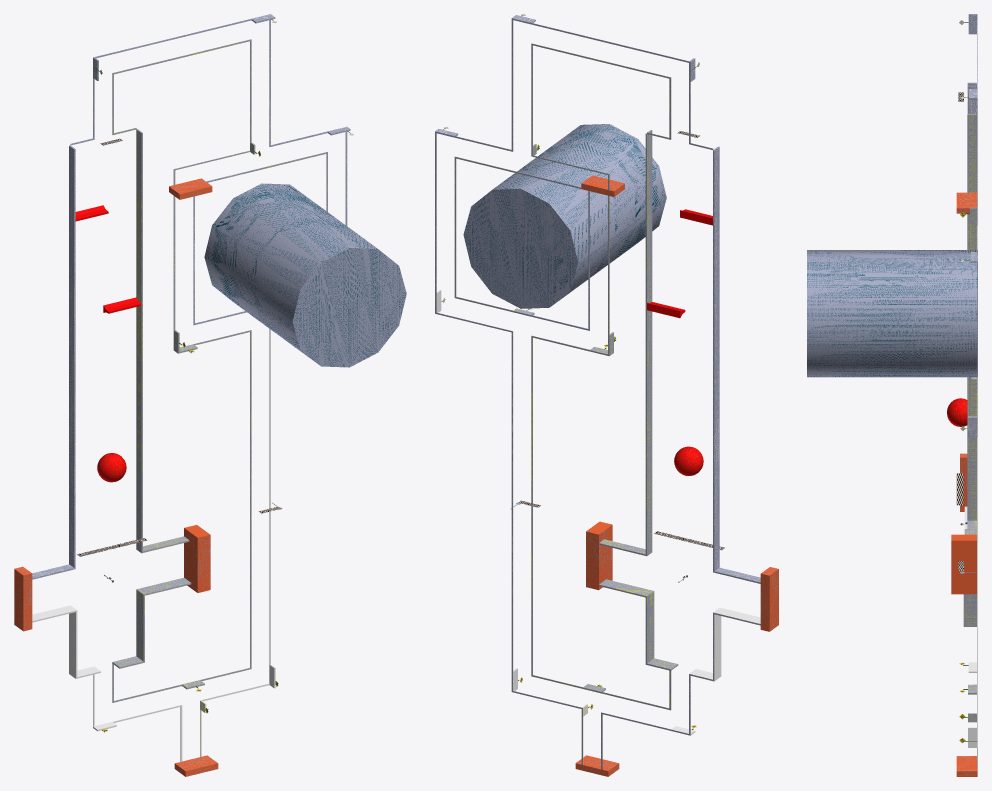
Rendered from map.obj.
3 views of the same model, side by side, from view 1: azimuth 30°, elevation 25°; view 2: azimuth 150°, elevation 25°; view 3: azimuth 270°, elevation 25° (orthographic). The views are drawn at different scales.
Visible parts, largest first — view 1: Mesh54 Model, Mesh55 Model, Mesh56 Model, Mesh57 Model, Mesh5 ball1 Model; view 2: Mesh54 Model, Mesh56 Model, Mesh55 Model, Mesh57 Model, Mesh5 ball1 Model, Mesh2 Group2 Model, Mesh1 Group1 Model; view 3: Mesh54 Model, Mesh55 Model, Mesh56 Model, Mesh5 ball1 Model, Mesh2 Group2 Model, Mesh1 Group1 Model.
Part boxes in pixels (x1,y1,x2,y2): Mesh54 Model: [204, 183, 406, 367]; Mesh55 Model: [112, 39, 255, 702]; Mesh56 Model: [14, 14, 350, 761]; Mesh57 Model: [193, 152, 327, 325]; Mesh5 ball1 Model: [97, 453, 126, 482]; Mesh54 Model: [463, 124, 666, 308]; Mesh56 Model: [435, 15, 778, 769]; Mesh55 Model: [531, 43, 678, 710]; Mesh57 Model: [454, 156, 589, 330]; Mesh5 ball1 Model: [674, 446, 703, 475]; Mesh2 Group2 Model: [575, 755, 619, 776]; Mesh1 Group1 Model: [581, 175, 624, 196]; Mesh54 Model: [807, 250, 977, 377]; Mesh55 Model: [951, 114, 976, 694]; Mesh56 Model: [960, 14, 977, 768]; Mesh5 ball1 Model: [947, 398, 967, 426]; Mesh2 Group2 Model: [956, 756, 977, 776]; Mesh1 Group1 Model: [956, 192, 976, 213].
Bounding box in the file's own units: 13.99 × 29.38 × 6.42.
Materials: 29 (6 with a texture image).
